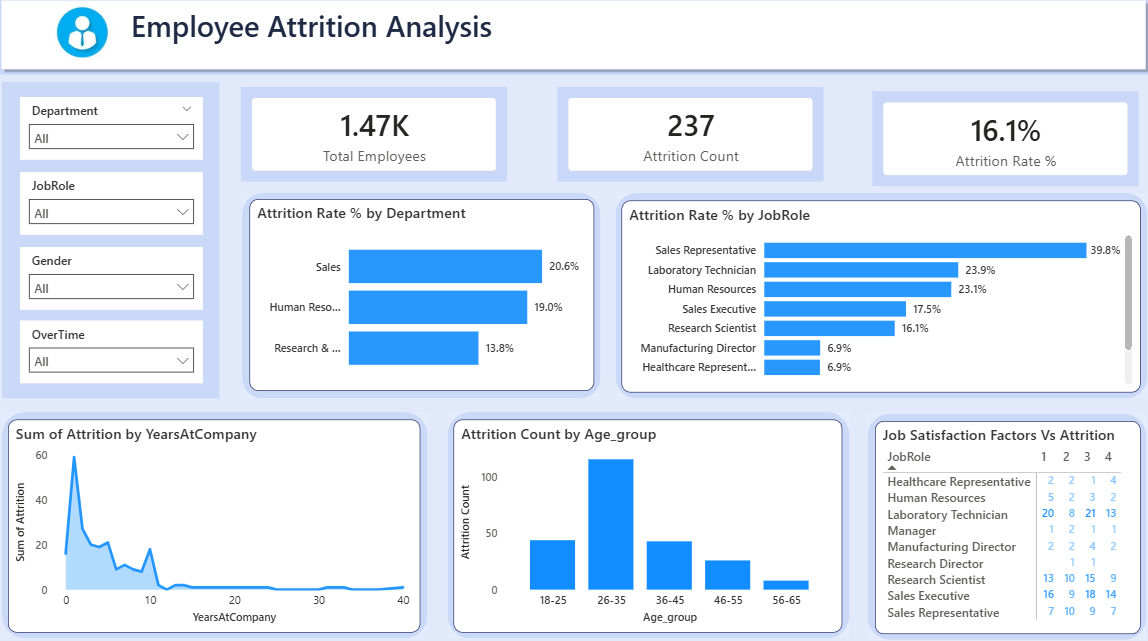

What the dashboard file says about the page in this screenshot:
{"tool":"powerbi","page":{"name":"Page 1","canvas":[1280,720],"ordinal":0},"visuals":[{"type":"shape","box":[0,0,1275.5,87.8],"z":0},{"type":"textbox","box":[144.1,6.6,652.7,74.5],"z":1000},{"type":"shape","box":[6.6,96.1,240.2,349.5],"z":2000},{"type":"slicer","fields":{"Values":["HR.Department"]},"box":[26.5,112.6,202.1,69.6],"z":3000},{"type":"cardVisual","fields":{"Data":["HR.Total Employees"]},"box":[265,96.1,304.8,116],"z":4000},{"type":"shape","box":[271.7,218.7,395.9,226.9],"z":5000},{"type":"shape","box":[6.6,460.5,470,250.1],"z":6000},{"type":"shape","box":[498.6,460.5,443.9,250.1],"z":7000},{"type":"shape","box":[962.4,462.2,308.1,250.1],"z":8000},{"type":"shape","box":[684.1,218.7,587,226.9],"z":9000},{"type":"cardVisual","fields":{"Data":["HR.Attrition Rate %"]},"box":[962.4,101,304.8,116],"z":10000},{"type":"cardVisual","fields":{"Data":["HR.Attrition Count"]},"box":[614.6,96.1,304.8,116],"z":11000},{"type":"clusteredBarChart","fields":{"Y":["HR.Attrition Rate %"],"Category":["HR.JobRole"]},"box":[690.8,226.9,573.1,212],"z":12000},{"type":"clusteredBarChart","fields":{"Y":["HR.Attrition Rate %"],"Category":["HR.Department"]},"box":[279.9,225.3,381,212],"z":13000},{"type":"pivotTable","title":"Job Satisfaction Factors Vs Attrition","fields":{"Columns":["HR.JobSatisfaction"],"Rows":["HR.JobRole"],"Values":["HR.Attrition Count"]},"box":[970.7,470.4,293.2,235.2],"z":14000},{"type":"slicer","fields":{"Values":["HR.JobRole"]},"box":[26.5,195.5,202.1,69.6],"z":15000},{"type":"slicer","fields":{"Values":["HR.OverTime"]},"box":[26.5,359.5,202.1,69.6],"z":16000},{"type":"slicer","fields":{"Values":["HR.Gender"]},"box":[26.5,278.3,202.1,69.6],"z":17000},{"type":"columnChart","fields":{"Category":["HR.Age_group"],"Y":["HR.Attrition Count"]},"box":[505.2,468.8,429,235.2],"z":18000},{"type":"areaChart","fields":{"Category":["HR.YearsAtCompany"],"Y":["Sum(HR.Attrition)"]},"box":[13.3,468.8,455.5,235.2],"z":19000},{"type":"image","box":[46.4,6.6,97.7,69.6],"z":19001}]}

Visuals, with their boxes in screenshot pixels (x1, y1, x2, y2), scaled from the page's 1280x720 canvas onto the 1148x641 screenshot:
shape: (0,0,1144,78)
textbox: (129,6,715,72)
shape: (6,86,221,397)
slicer - HR.Department: (24,100,205,162)
cardVisual - HR.Total Employees: (238,86,511,189)
shape: (244,195,599,397)
shape: (6,410,427,633)
shape: (447,410,845,633)
shape: (863,411,1139,634)
shape: (614,195,1140,397)
cardVisual - HR.Attrition Rate %: (863,90,1137,193)
cardVisual - HR.Attrition Count: (551,86,825,189)
clusteredBarChart - HR.Attrition Rate % x HR.JobRole: (620,202,1134,391)
clusteredBarChart - HR.Attrition Rate % x HR.Department: (251,201,593,389)
"Job Satisfaction Factors Vs Attrition" pivotTable: (871,419,1134,628)
slicer - HR.JobRole: (24,174,205,236)
slicer - HR.OverTime: (24,320,205,382)
slicer - HR.Gender: (24,248,205,310)
columnChart - HR.Age_group x HR.Attrition Count: (453,417,838,627)
areaChart - HR.YearsAtCompany x Sum(HR.Attrition): (12,417,420,627)
image: (42,6,129,68)
